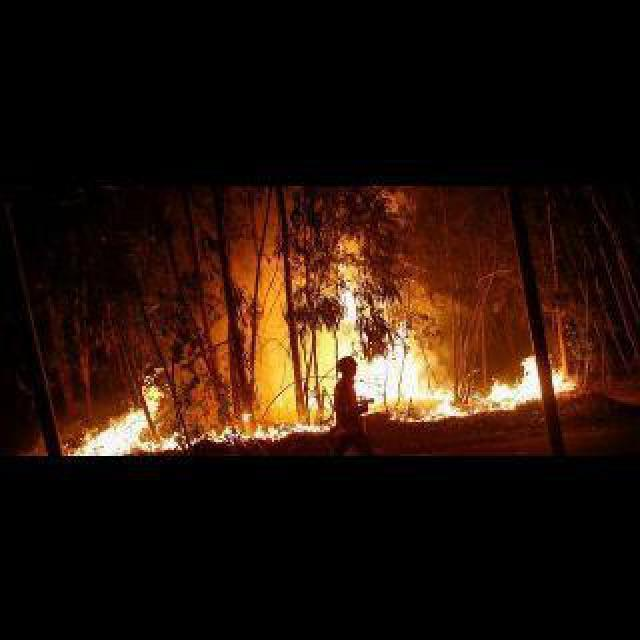fire: (324, 265, 438, 401), (413, 348, 574, 424), (62, 370, 181, 455), (185, 410, 332, 450)
